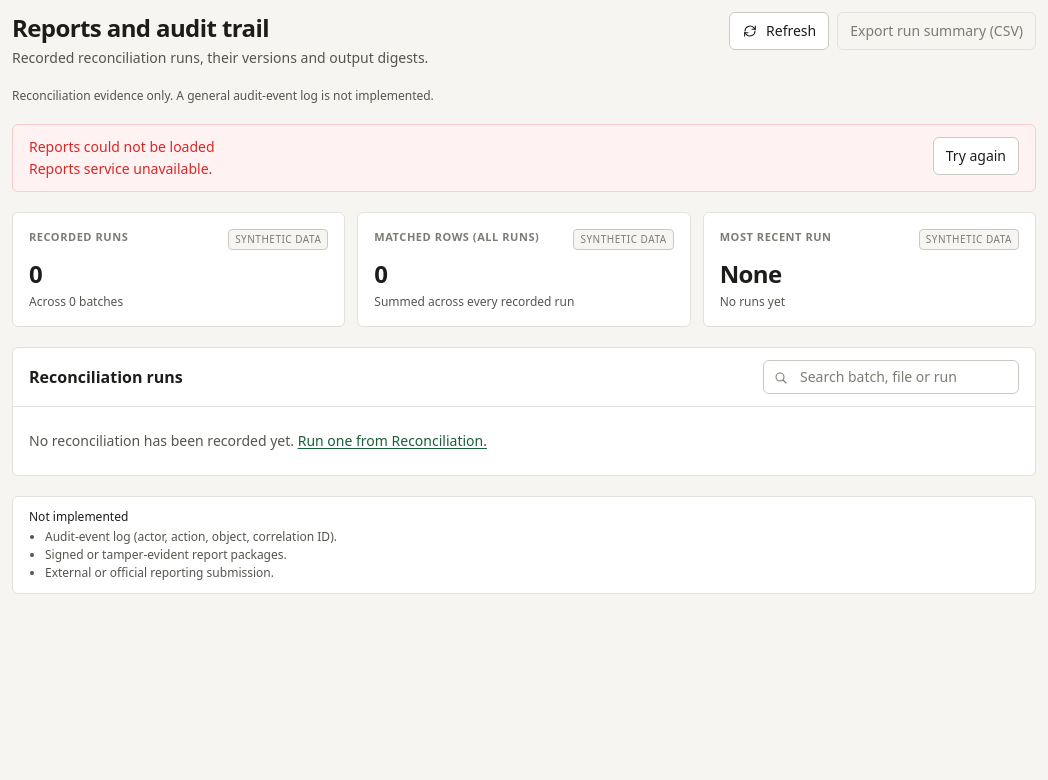
ReportsPage › reports a load failure and retries
Expected: the message shows "Reports service unavailable", [29, 159, 212, 178]
Click the button "Try again".
click(976, 156)  # box [933, 137, 1019, 175]
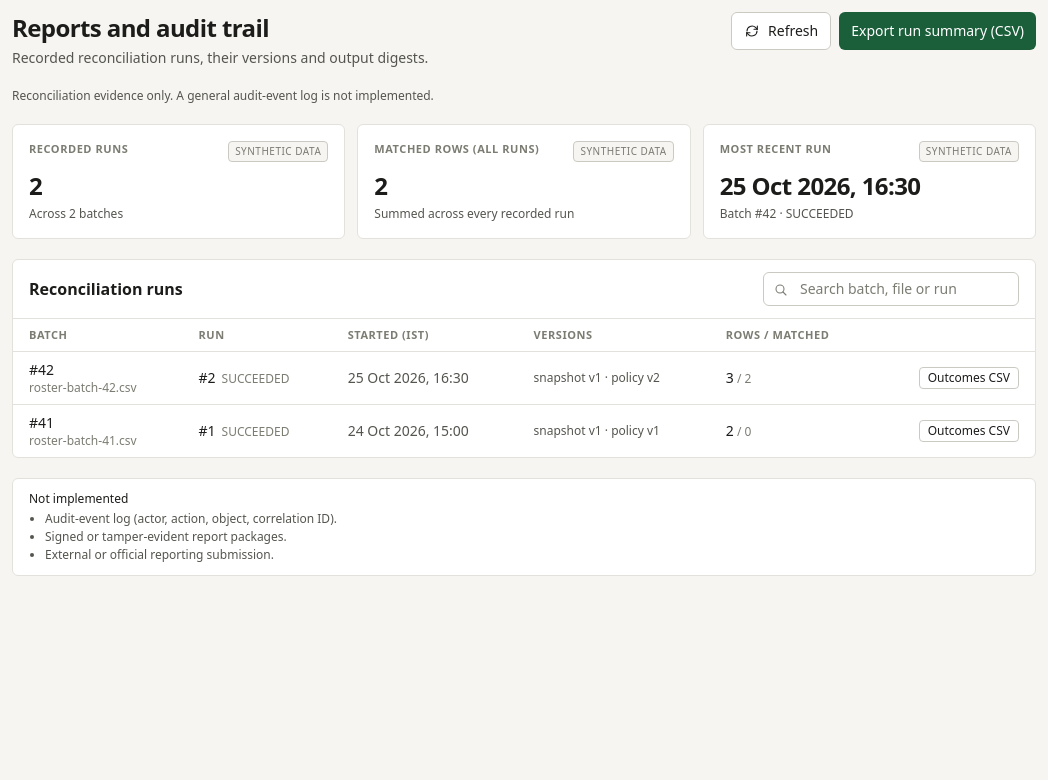
Now the text "roster-batch-42.csv" is shown, box [29, 379, 137, 396]
Now the message "Reports could not be loaded Reports service unavailable. Try again" is gone
